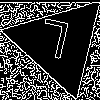L: (33, 18, 72, 69)
